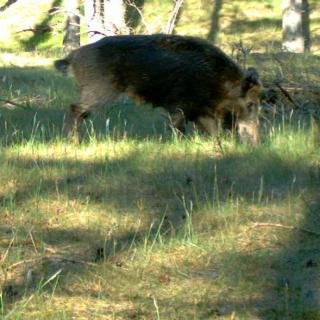Pig: (48, 24, 263, 164)
